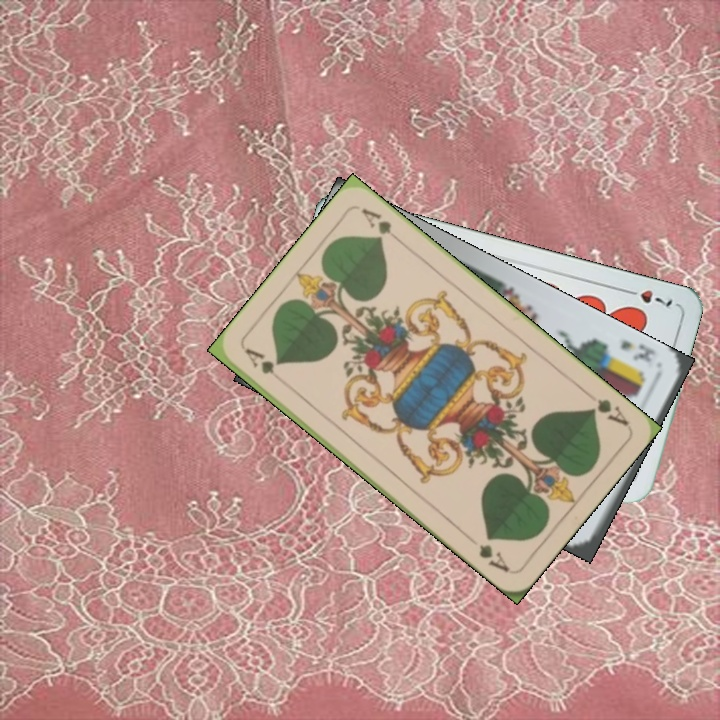EK: (616, 336, 659, 365)
GA: (241, 344, 289, 388), (585, 394, 631, 429)
H7: (619, 284, 675, 310)
